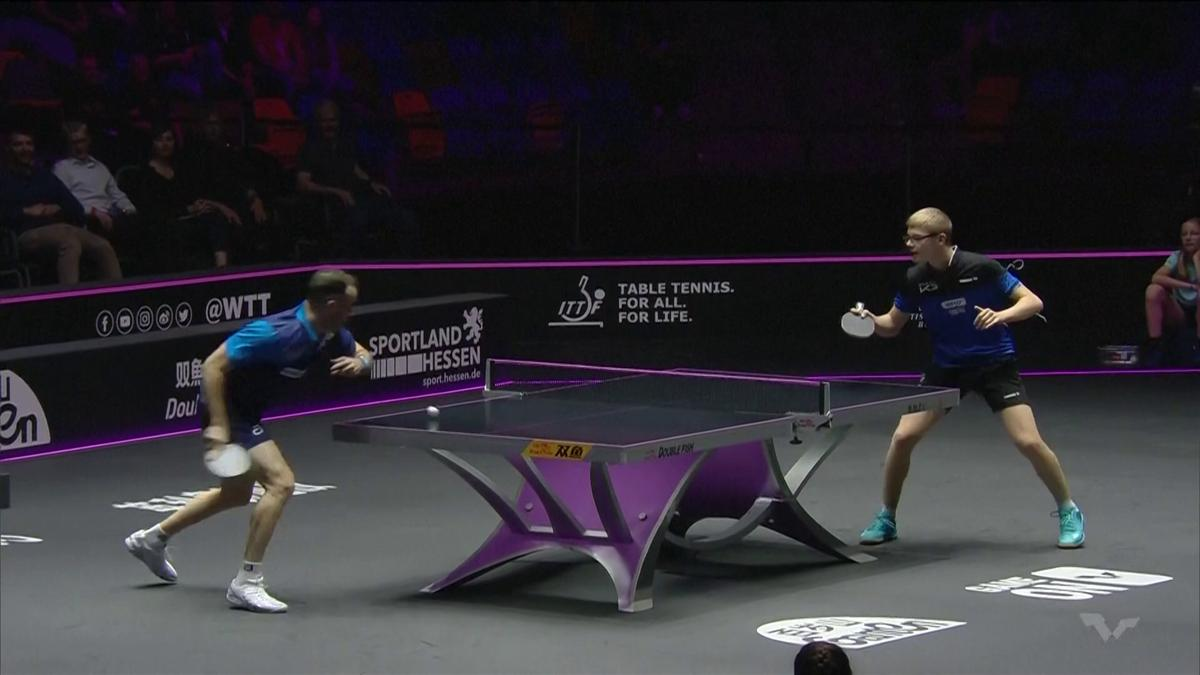ball_pingpong: (425, 402, 439, 419)
